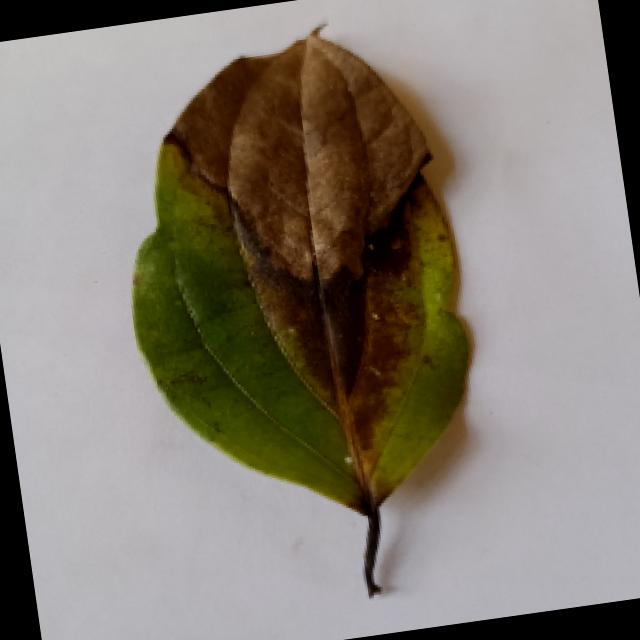footrot: (83, 23, 512, 622)
